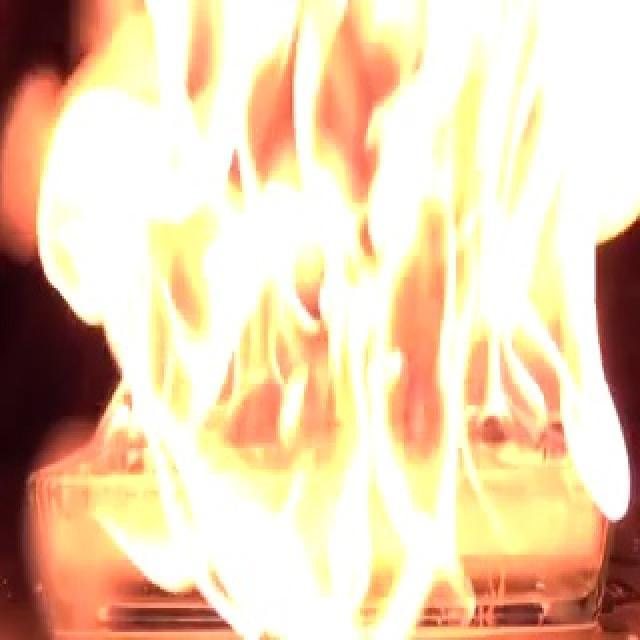Fire: (27, 2, 639, 560)
